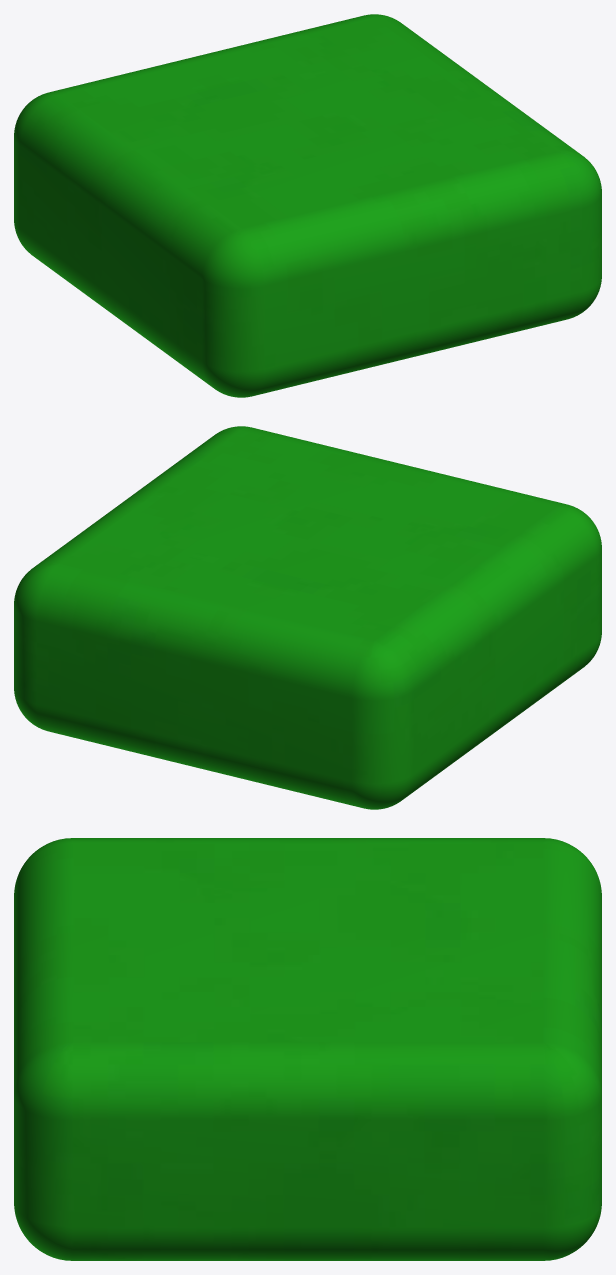
Rendered from grassTile.gltf.
3 renders of one model, top to bottom at view 1: azimuth 30°, elevation 25°; view 2: azimuth 150°, elevation 25°; view 3: azimuth 270°, elevation 25°, orthographic. The views are drawn at different scales.
Parts seen in each view (by area): view 1: default_procedural_mesh_cube_n3d; view 2: default_procedural_mesh_cube_n3d; view 3: default_procedural_mesh_cube_n3d.
Boxes of the visible parts, x1=… form: default_procedural_mesh_cube_n3d: x1=14, y1=14, x2=601, y2=397; default_procedural_mesh_cube_n3d: x1=14, y1=426, x2=601, y2=809; default_procedural_mesh_cube_n3d: x1=14, y1=838, x2=601, y2=1260.
Bounding box in the file's own units: 0.2 × 0.08 × 0.2.
Materials: 1 (1 with a texture image).
